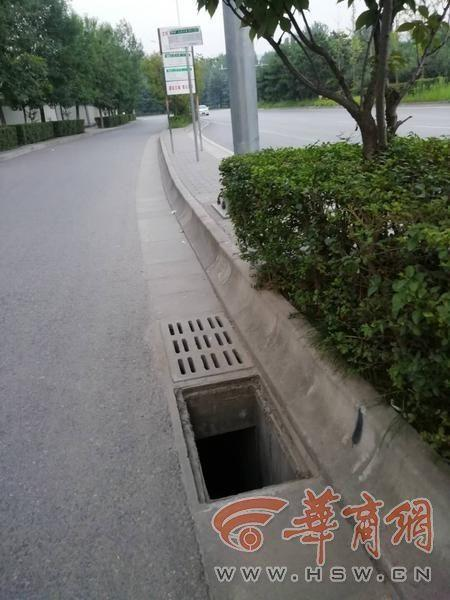wellcover: (131, 283, 322, 520)
